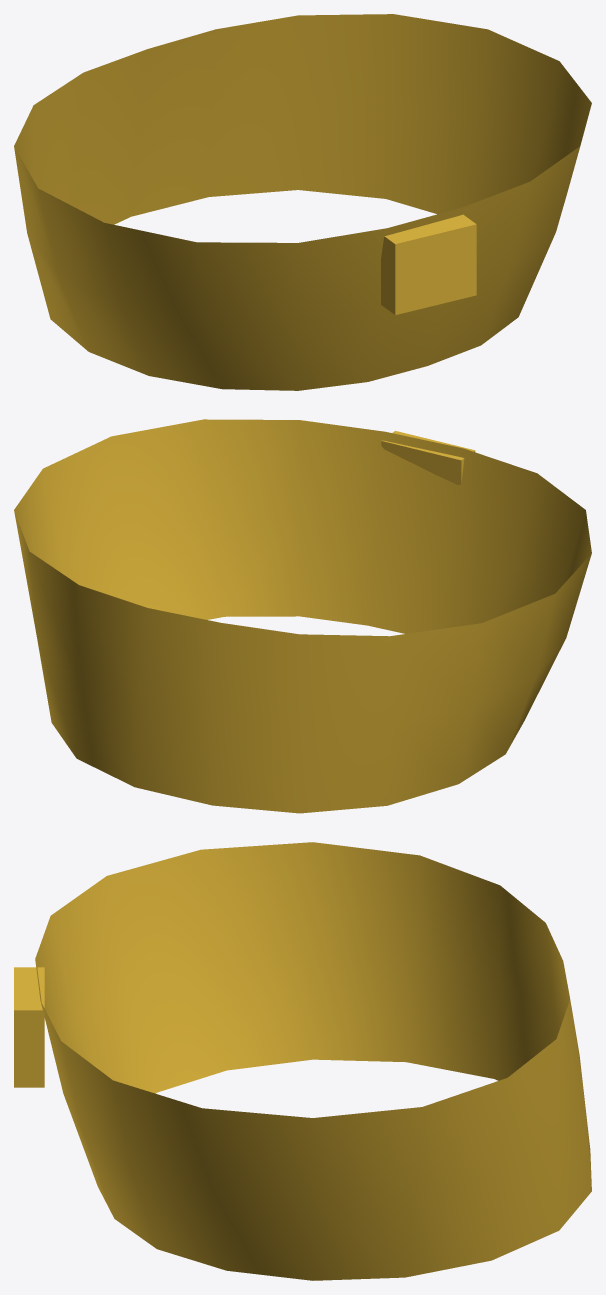
The model's file is radiant_armor_belt.glb.
3 renders of one model, top to bottom at view 1: azimuth 30°, elevation 25°; view 2: azimuth 150°, elevation 25°; view 3: azimuth 270°, elevation 25°, orthographic. The views are drawn at different scales.
Visible parts, largest first — view 1: radiant_armor_belt; view 2: radiant_armor_belt; view 3: radiant_armor_belt.
Part boxes in pixels (x1=…): radiant_armor_belt: x1=14, y1=14, x2=591, y2=390; radiant_armor_belt: x1=14, y1=419, x2=591, y2=813; radiant_armor_belt: x1=14, y1=842, x2=591, y2=1280.
Size of the model in its own units: 0.3841 by 0.1238 by 0.34.
